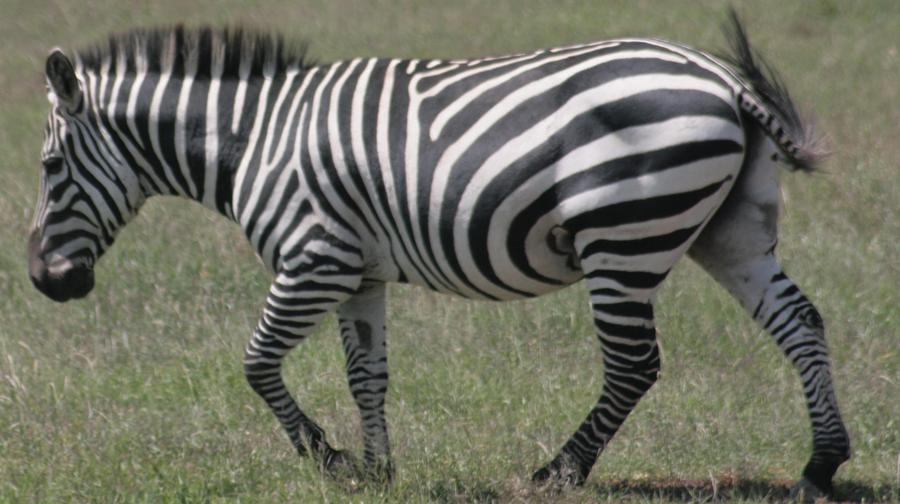zebra_plains: (246, 42, 700, 318)
